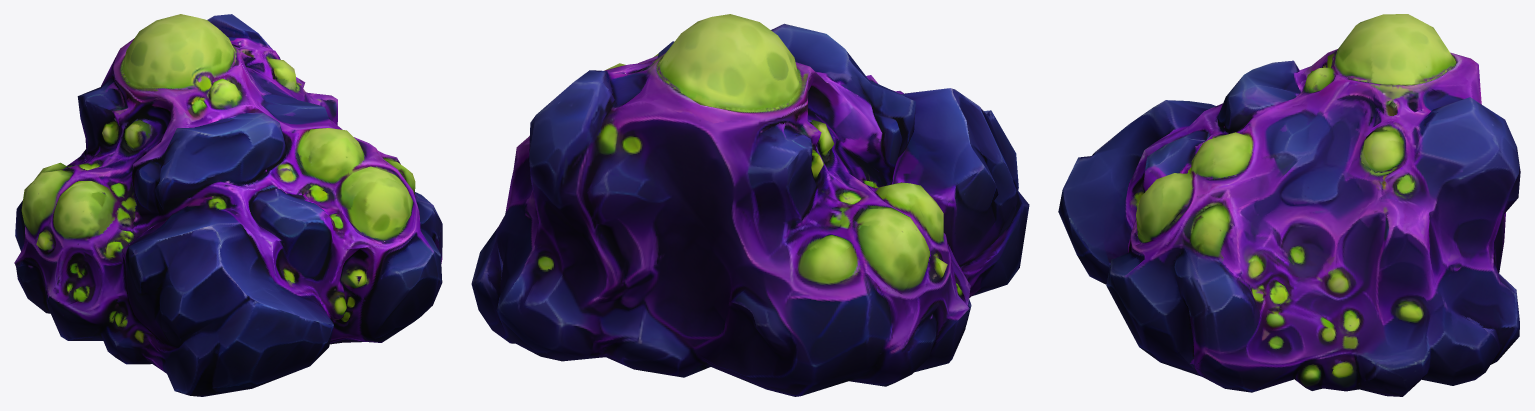
The model's file is fungal-biomass-boulder_LOD0.glb.
3 renders of one model, left to right at view 1: azimuth 30°, elevation 25°; view 2: azimuth 150°, elevation 25°; view 3: azimuth 270°, elevation 25°, orthographic. The views are drawn at different scales.
Parts seen in each view (by area): view 1: fungal-biomass-boulder_LOD0; view 2: fungal-biomass-boulder_LOD0; view 3: fungal-biomass-boulder_LOD0.
Boxes of the visible parts, x1,y1,x2,y2 form: fungal-biomass-boulder_LOD0: (14,14,442,396); fungal-biomass-boulder_LOD0: (471,14,1029,396); fungal-biomass-boulder_LOD0: (1058,14,1520,396).
Size of the model in its own units: 1.14 by 0.8491 by 1.2.
Materials: 1 (1 with a texture image).
